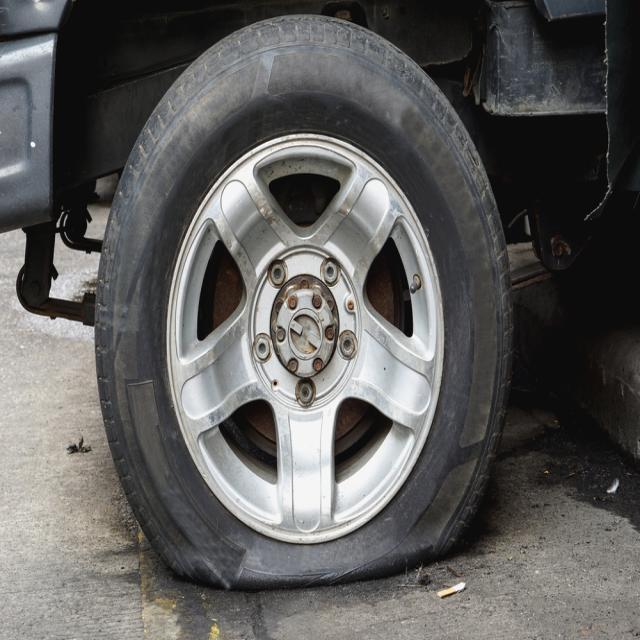tire flat: (94, 15, 518, 593)
